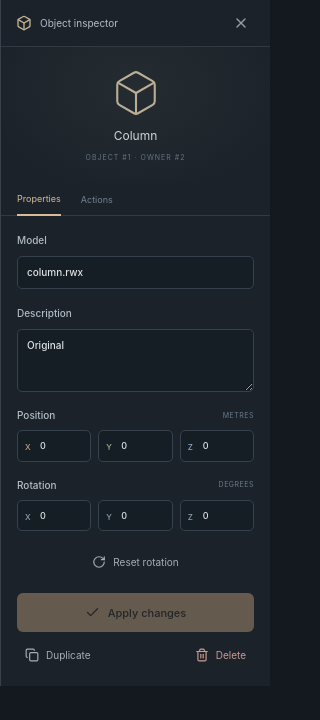
it: unsaved building edits › reports draft changes and blocks unload until edits are explicitly discarded
The width and height of the screenshot is (320, 720).
Step 1. Replace the text in the text box labelled "Description" with "Not yet applied" → (136, 360), box [17, 329, 254, 392]
(page scrolled)
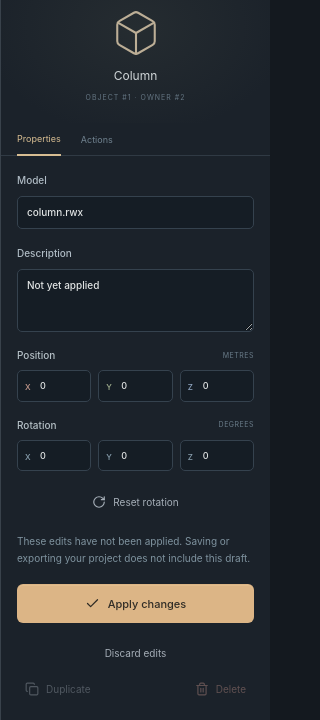
Step 2. Click the button "Discard edits" → click(136, 653), box [17, 640, 254, 666]
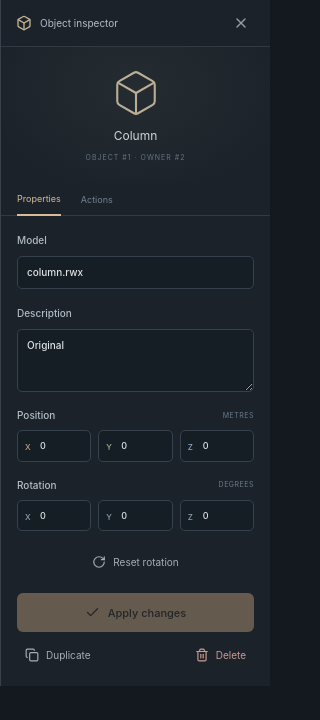
Expected: the text box labelled "Description" holds "Original", [17, 329, 254, 392]
